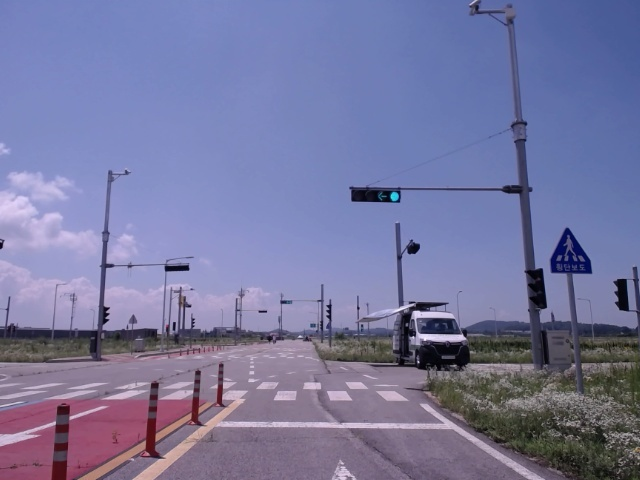all_green_4: (350, 186, 398, 202)
